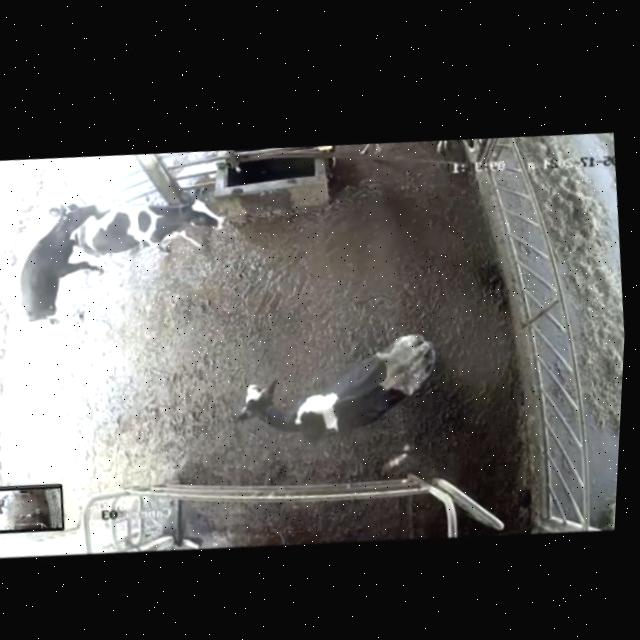lay: (214, 300, 456, 475)
ride: (0, 185, 129, 348)
stand: (76, 183, 232, 276)
